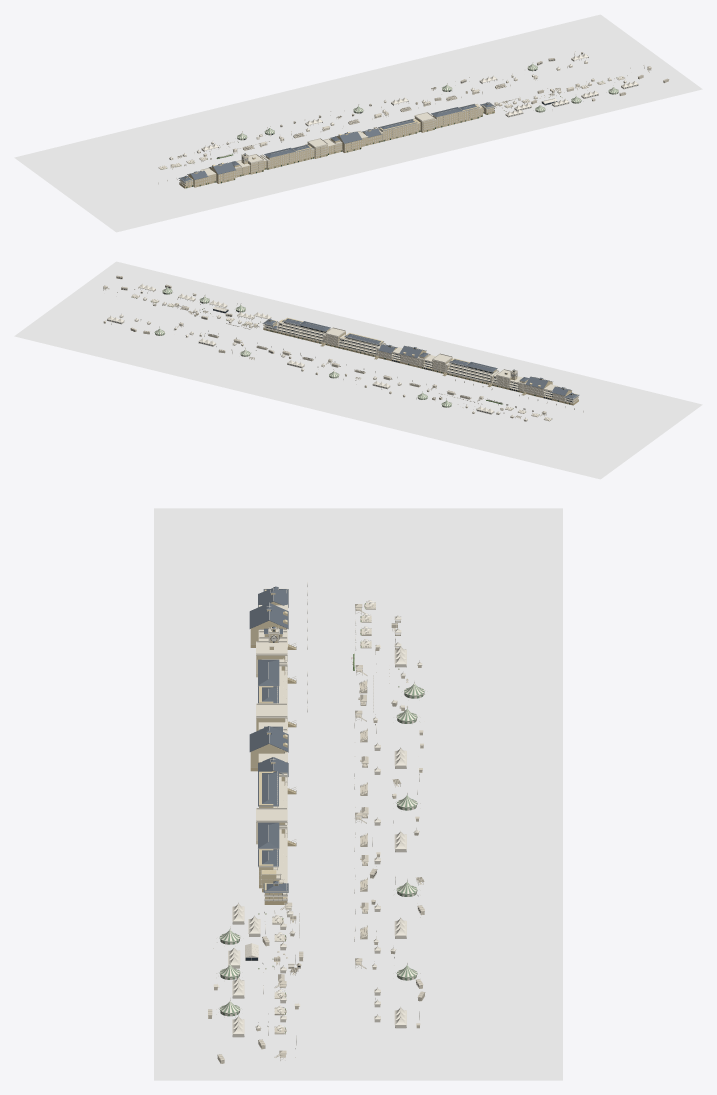
Rendered from static_world.glb.
3 views of the same model, one above another, from view 1: azimuth 30°, elevation 25°; view 2: azimuth 150°, elevation 25°; view 3: azimuth 270°, elevation 25° (orthographic). The views are drawn at different scales.
Visible parts, largest first — view 1: ground, stand, site; view 2: ground, stand, site; view 3: ground, stand, site.
Boxes of the visible parts, x1,y1,x2,y2 form: ground: (14,14,702,232); stand: (178,102,495,188); site: (158,51,668,184); ground: (14,261,702,479); stand: (262,317,579,405); site: (103,275,583,421); ground: (154,508,562,1080); stand: (249,586,296,904); site: (208,581,425,1063).
Size of the model in its own units: 960 by 29.85 by 290.
